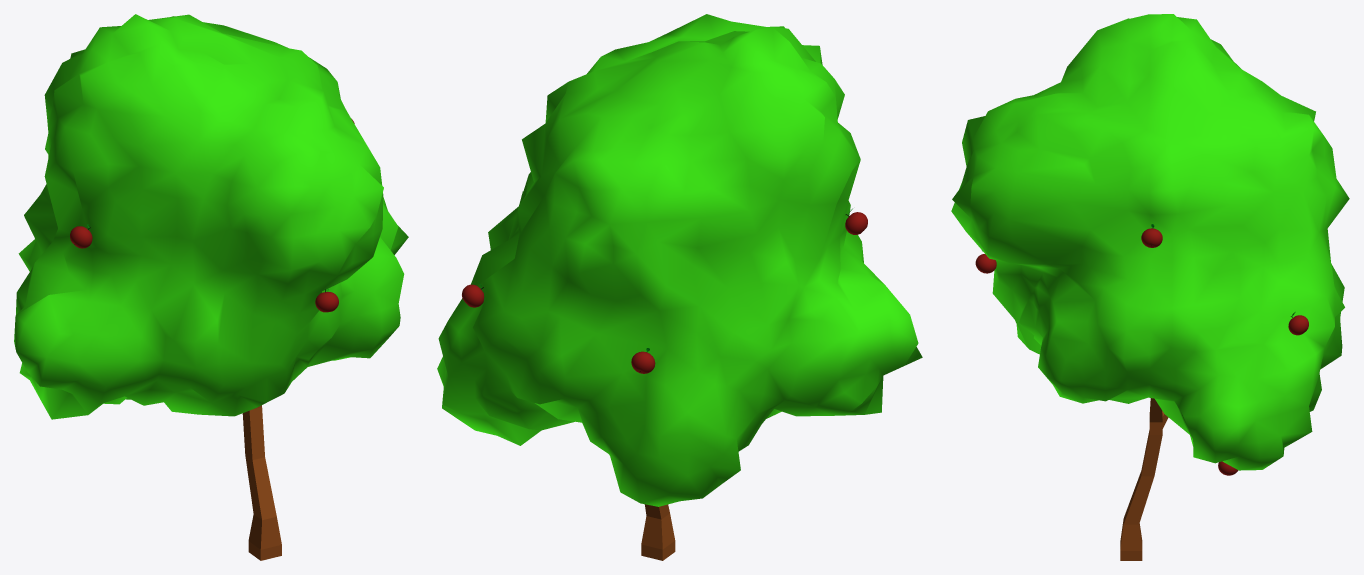
The model's file is SM_AppleTree_002.fbx.
3 views of the same model, side by side, from view 1: azimuth 30°, elevation 25°; view 2: azimuth 150°, elevation 25°; view 3: azimuth 270°, elevation 25° (orthographic). The views are drawn at different scales.
Parts seen in each view (by area): view 1: AppleTree_02; view 2: AppleTree_02; view 3: AppleTree_02.
Part boxes in pixels (bbox=[...]): AppleTree_02: bbox=[14, 14, 408, 560]; AppleTree_02: bbox=[437, 14, 922, 560]; AppleTree_02: bbox=[951, 14, 1349, 560].
Size of the model in its own units: 356 by 450 by 328.
